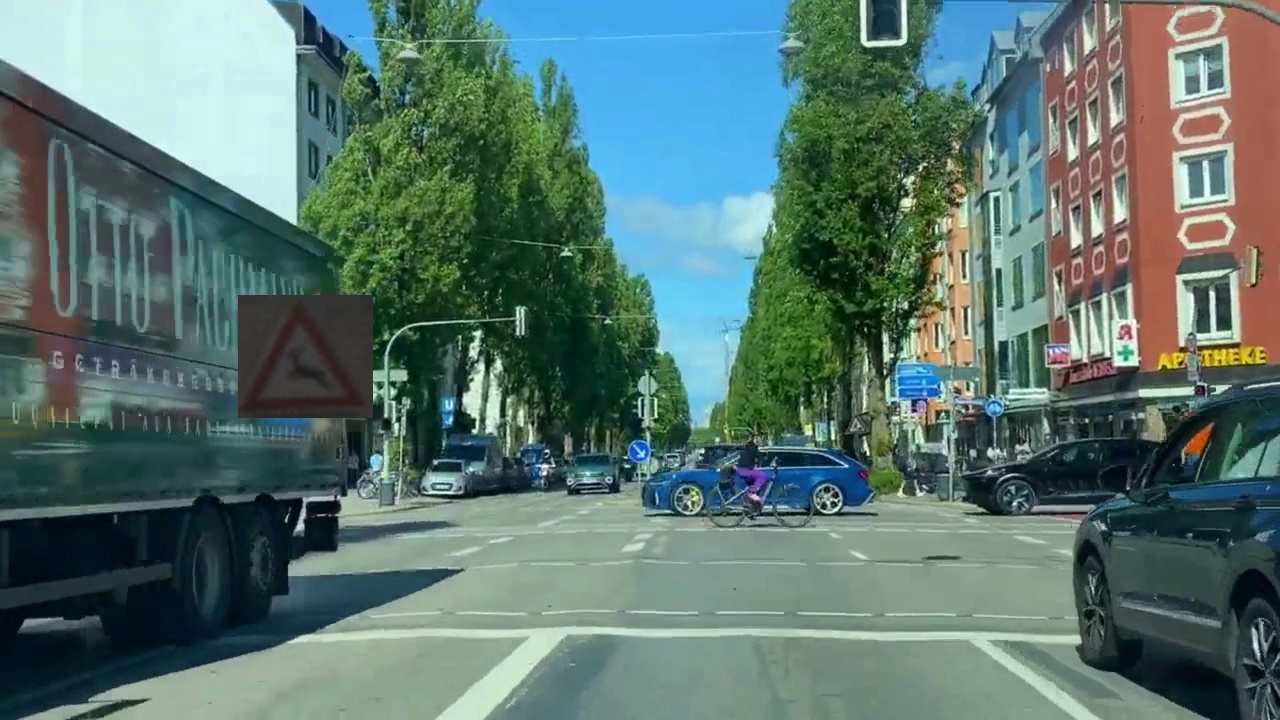Wild animals: (238, 295, 373, 418)
